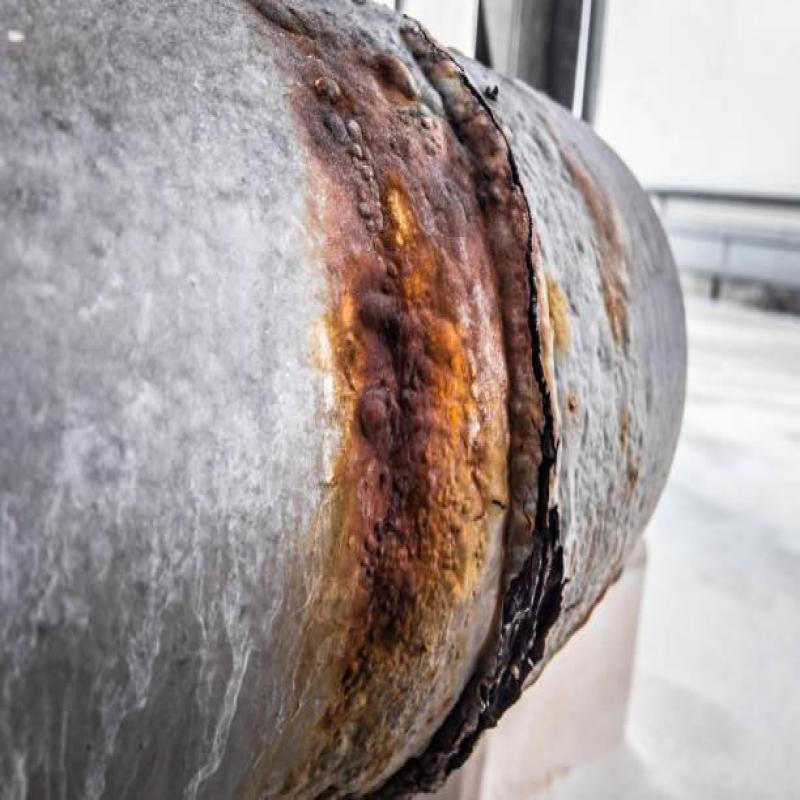Fracture: (474, 26, 568, 746)
corrosion: (299, 47, 460, 786)
